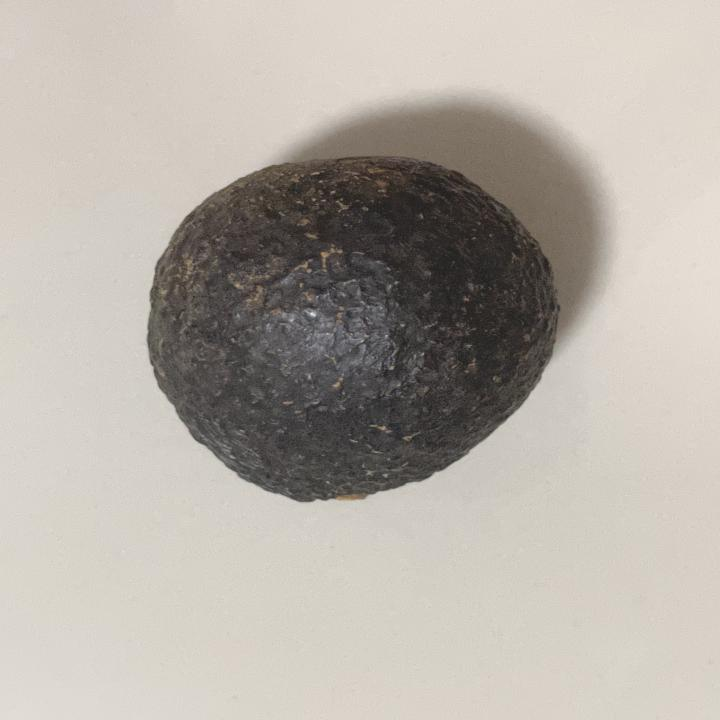Level3: (131, 148, 570, 516)
